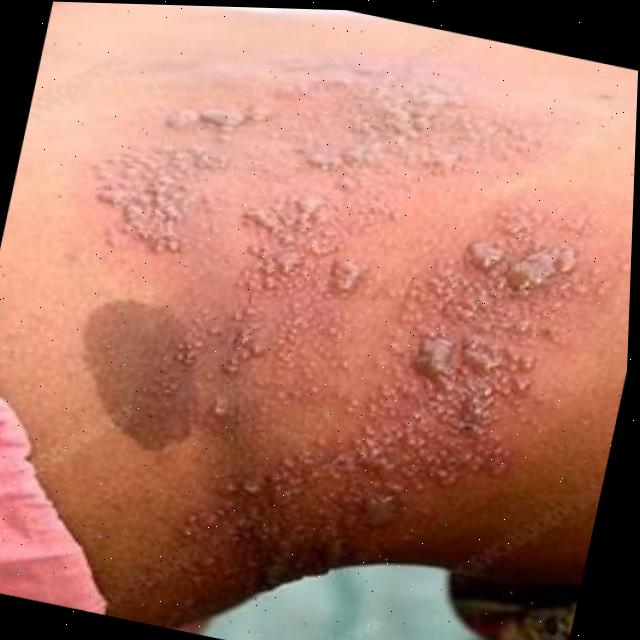Shingles: (68, 27, 604, 619)
